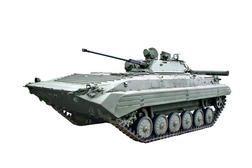bmp: (23, 42, 239, 145)
